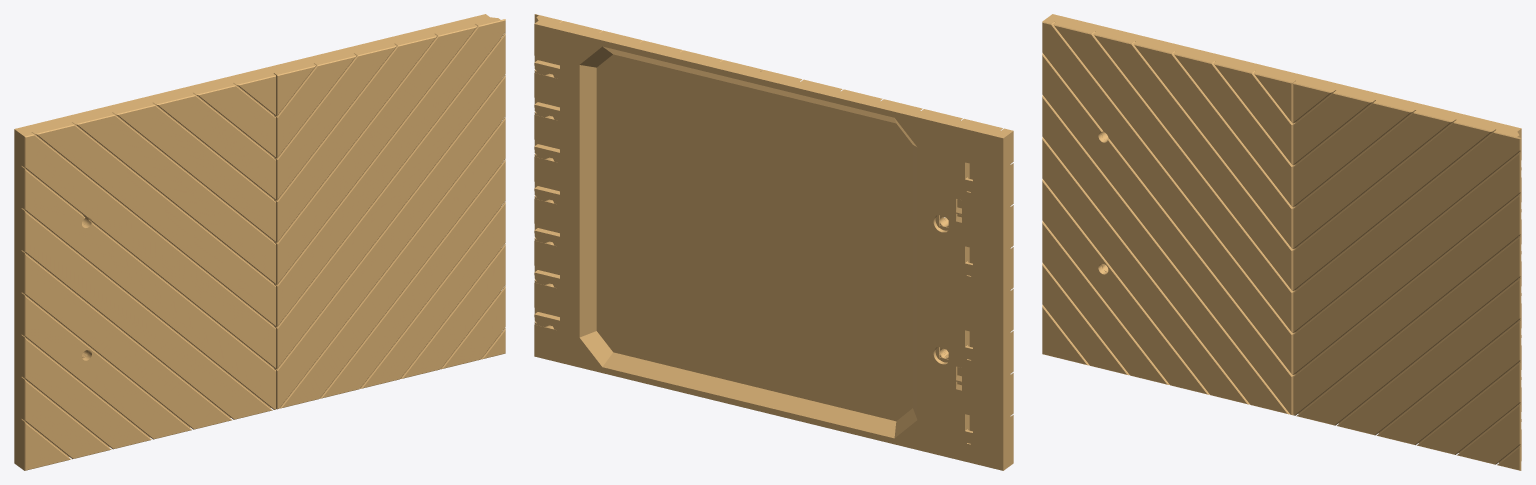
The model's file is Door_Chevron_2W-2H_RH.lib.glb.
3 views of the same model, side by side, from view 1: azimuth 30°, elevation 25°; view 2: azimuth 150°, elevation 25°; view 3: azimuth 330°, elevation 25° (orthographic).
Visible parts, largest first — view 1: Door_Chevron_2W-2H_RH; view 2: Door_Chevron_2W-2H_RH; view 3: Door_Chevron_2W-2H_RH.
Boxes of the visible parts, box(x1,y1,x2,y2) form: Door_Chevron_2W-2H_RH: box(14, 14, 505, 470); Door_Chevron_2W-2H_RH: box(534, 14, 1013, 470); Door_Chevron_2W-2H_RH: box(1042, 14, 1521, 470).
Bounding box in the file's own units: 167 × 111 × 6.51.
